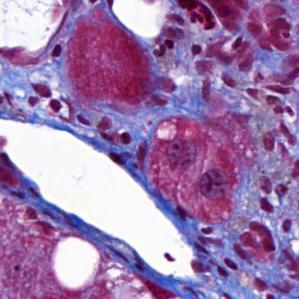inflammation: (25, 80, 71, 120), (256, 175, 291, 212)
